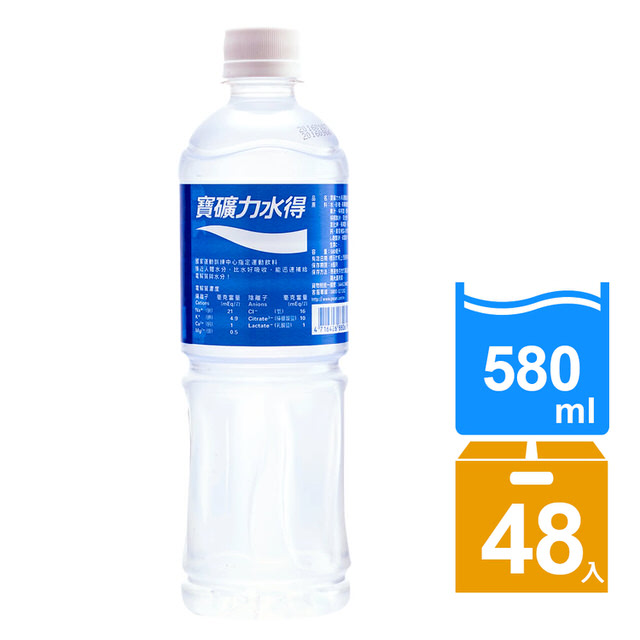POCARI SWEAT: (178, 24, 350, 617)
